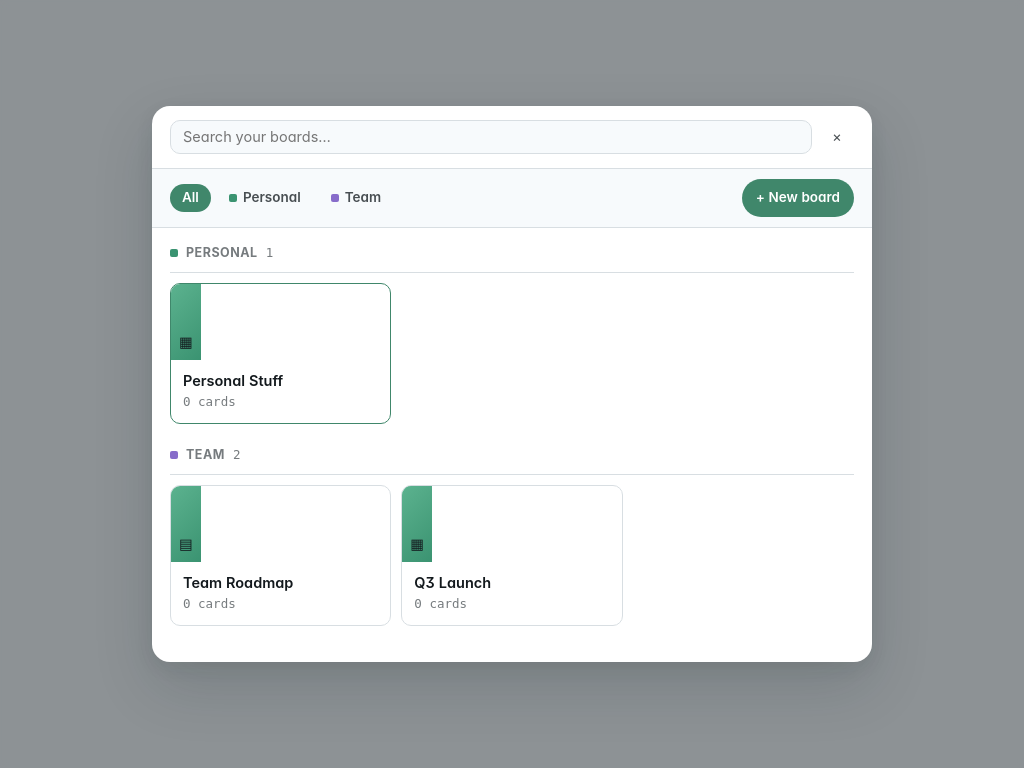
BoardSwitcher (BS1..BS15) › BS6: empty state when no matches
Type "zzzz-no-match" into the field with test id "bs-search-input" at coordinates (491, 137), box [181, 125, 801, 148]
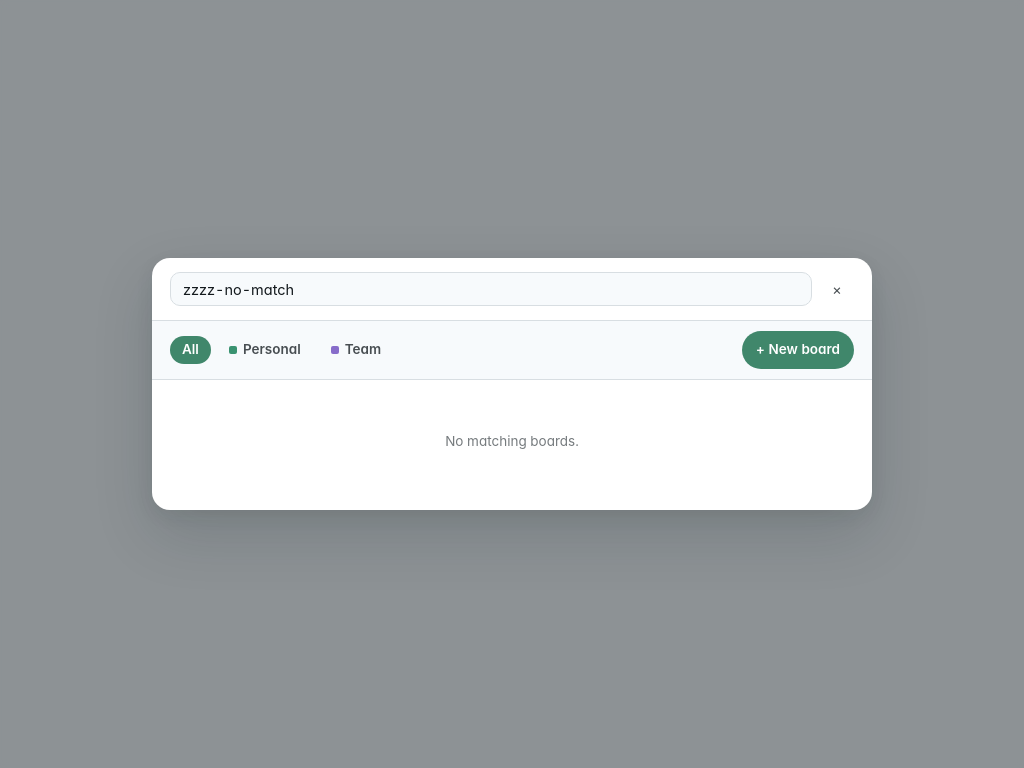
Now the text "No matching boards." is shown, box [445, 433, 579, 449]
